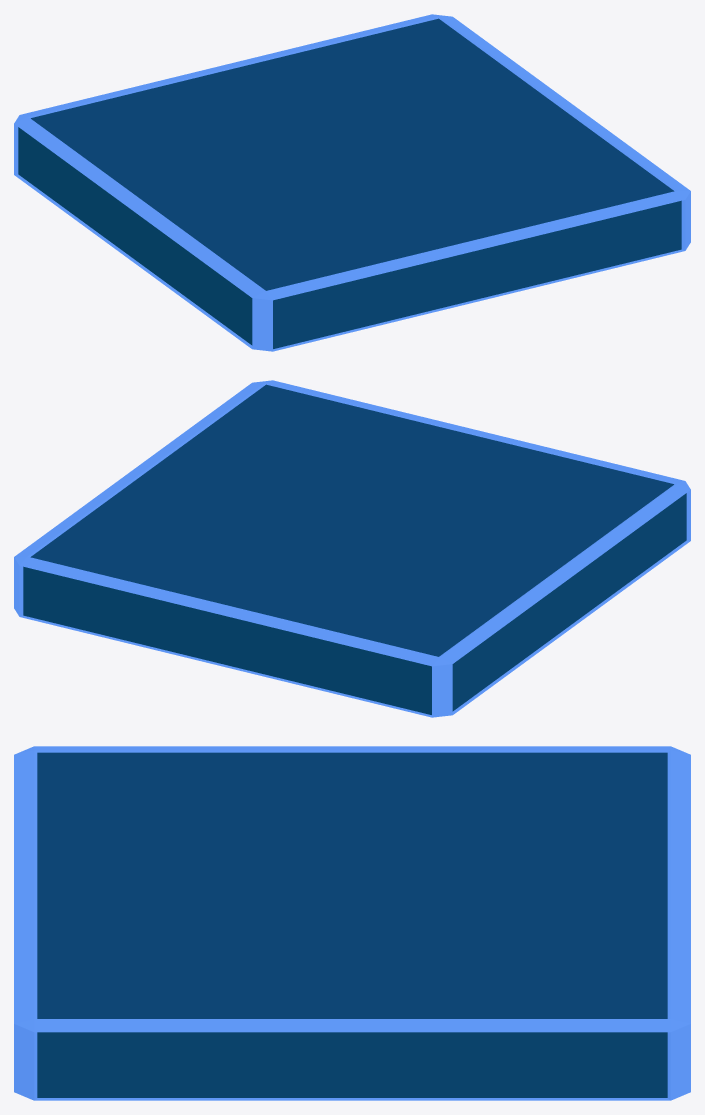
Rendered from block-neon-low-large.glb.
The picture shows the model from 3 angles, top to bottom: view 1: azimuth 30°, elevation 25°; view 2: azimuth 150°, elevation 25°; view 3: azimuth 270°, elevation 25°; orthographic projection. The views are drawn at different scales.
Parts seen in each view (by area): view 1: block-neon-large; view 2: block-neon-large; view 3: block-neon-large.
Boxes of the visible parts, x1,y1,x2,y2 form: block-neon-large: (14,14,690,351); block-neon-large: (14,380,690,717); block-neon-large: (14,746,690,1100).
Bounding box in the file's own units: 2.03 × 0.2569 × 2.03.
